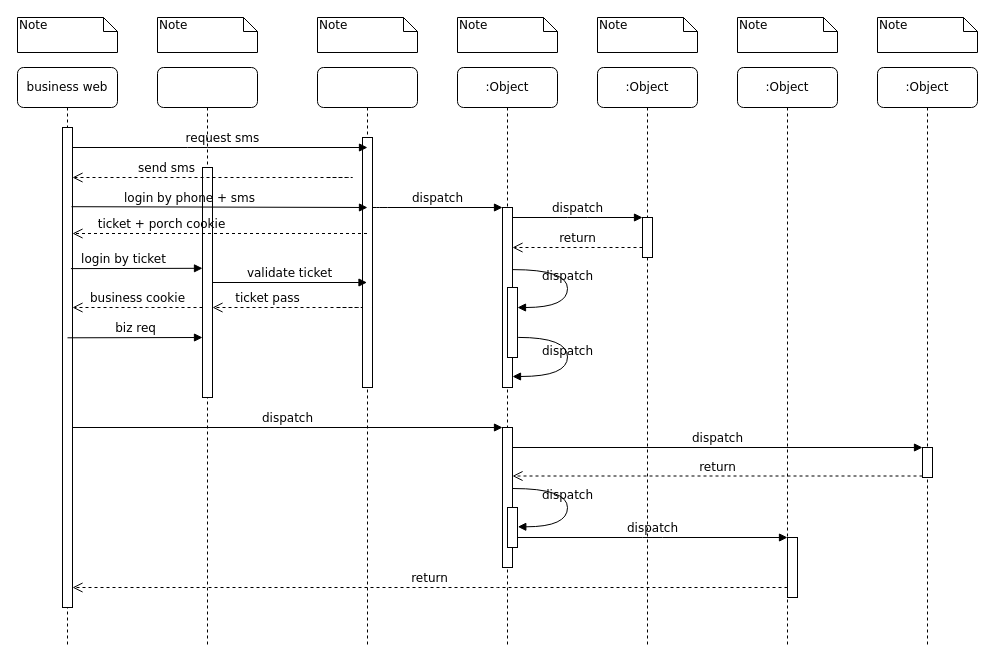
This 995x665 diagram has some shape labels left out. Here are the shapes that lost their labels. From the top down, the centre of each, then its label:
[207,357]: business service
[367,357]: porch
